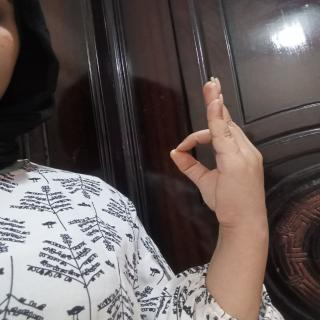Space: (165, 72, 267, 231)
